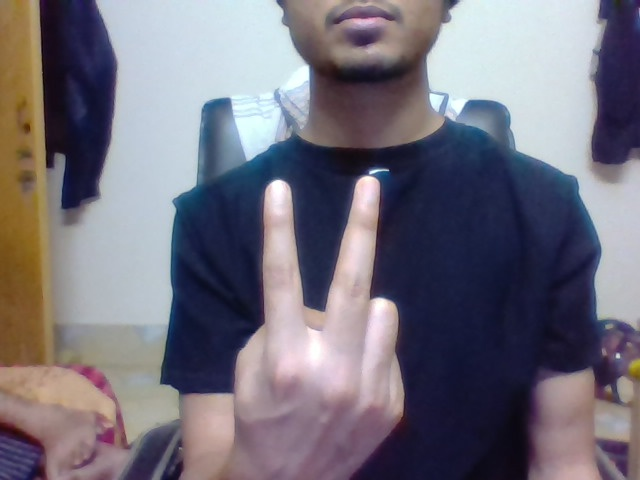V: (259, 174, 385, 321)
